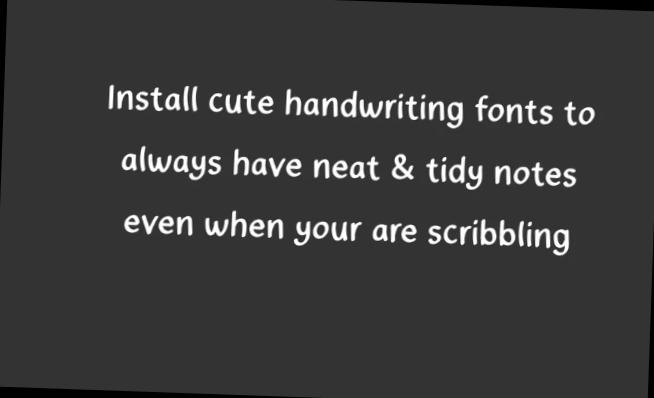text: (103, 78, 597, 138), (118, 140, 580, 198), (122, 203, 572, 260)
